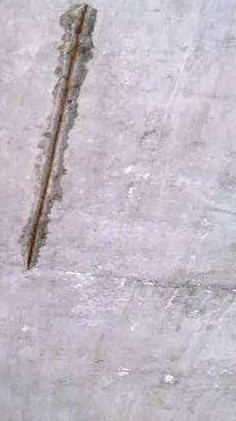Exposed reinforcement: (26, 3, 88, 269)
Spalling: (17, 1, 99, 271)
